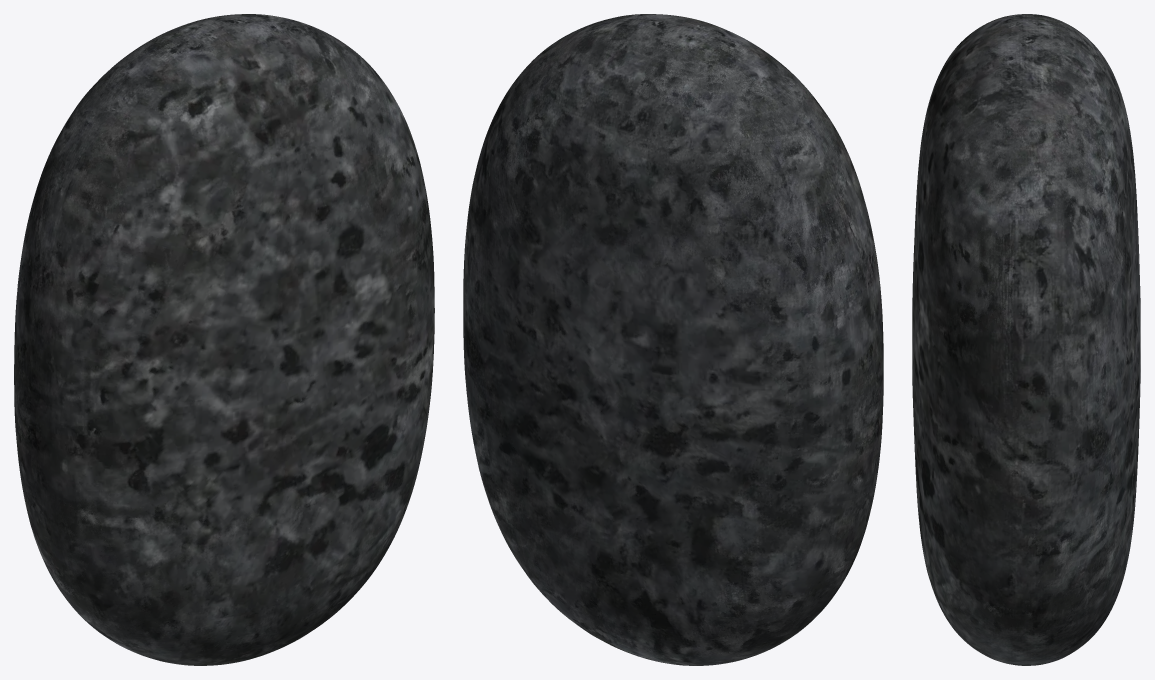
File: stone-polished.glb
3 views of the same model, side by side, from view 1: azimuth 30°, elevation 25°; view 2: azimuth 150°, elevation 25°; view 3: azimuth 270°, elevation 25° (orthographic). The views are drawn at different scales.
Parts seen in each view (by area): view 1: Mesh_0.001; view 2: Mesh_0.001; view 3: Mesh_0.001.
Part boxes in pixels (left/top/right/bottom): Mesh_0.001: left=14, top=14, right=434, bottom=665; Mesh_0.001: left=463, top=14, right=883, bottom=665; Mesh_0.001: left=912, top=14, right=1140, bottom=665.
Size of the model in its own units: 0.0797 by 0.12 by 0.0405.
Materials: 1 (1 with a texture image).
